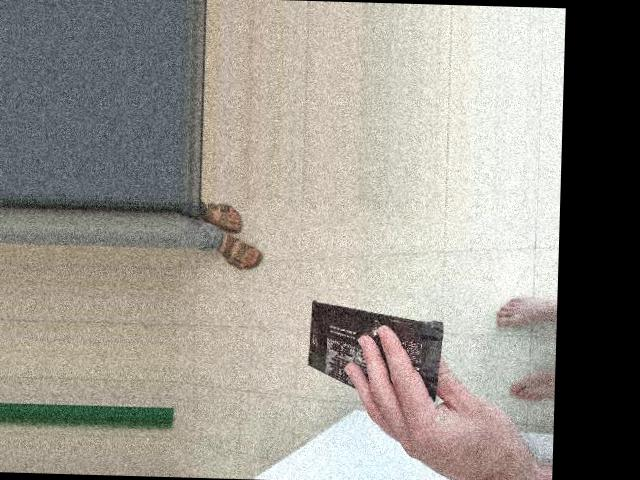chocolate: (270, 183, 393, 351)
